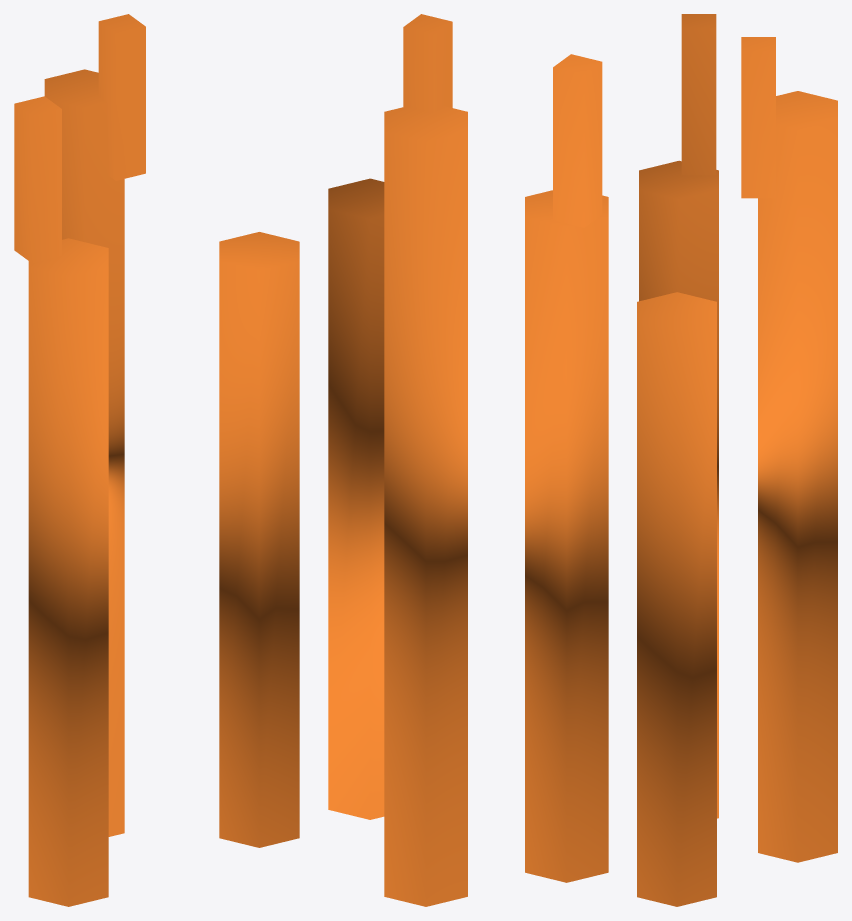
The model's file is ps2_jrpg_marsh_wetland_reed_sedge.obj.
3 renders of one model, left to right at view 1: azimuth 30°, elevation 25°; view 2: azimuth 150°, elevation 25°; view 3: azimuth 270°, elevation 25°, orthographic. The views are drawn at different scales.
Size of the model in its own units: 0.5386 by 1.55 by 0.3476.
